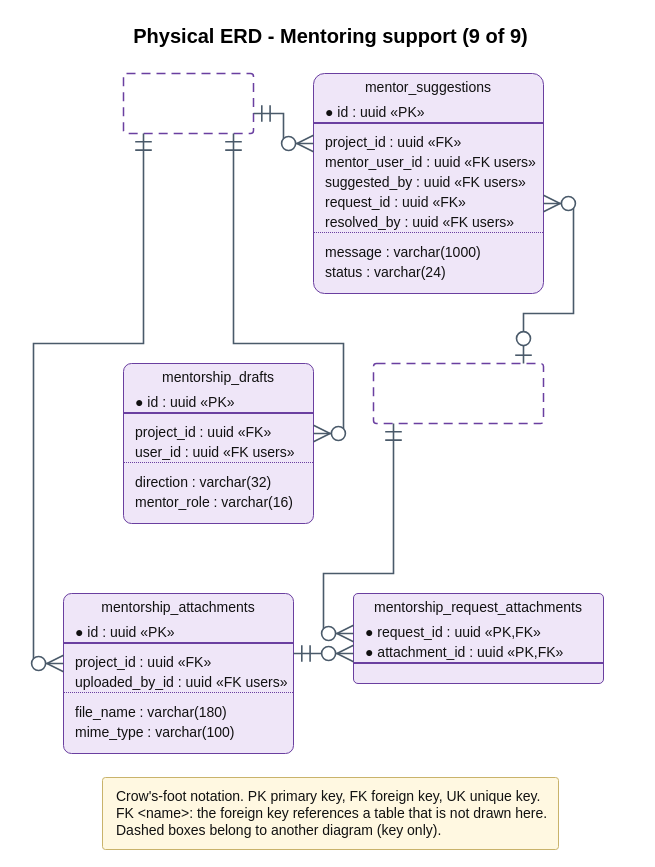
The diagram is 655 pixels wide and 867 high, and some of its shapes have lost their labels. The shapes that lost their labels are listed below. From the top down, each one's centre as x and y in pixels, then its label:
At (188,103): "projects ● id : uuid «PK»".
At (458,393): "mentorship_requests ● id : uuid «PK»".
